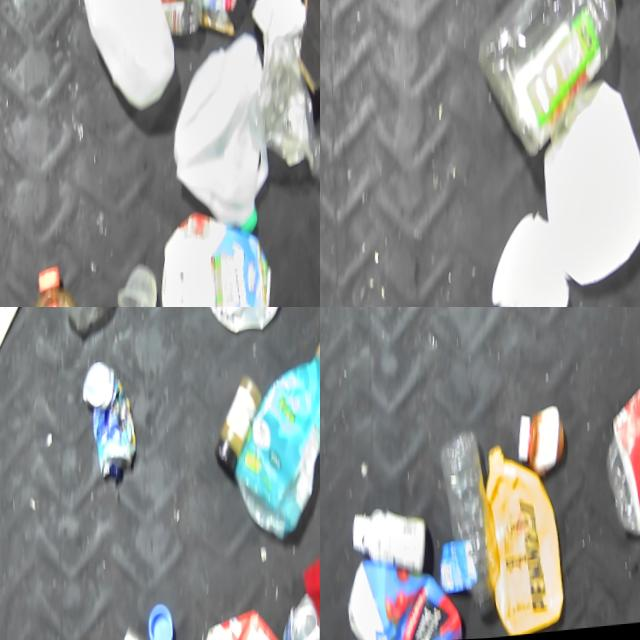can: (75, 356, 142, 490), (108, 617, 187, 640)
milk_jug: (172, 31, 283, 244), (71, 0, 184, 126)
non_white_jug: (227, 342, 320, 549), (482, 442, 572, 640), (346, 550, 471, 640), (32, 259, 105, 307)
plastic_bottle: (436, 428, 503, 623), (603, 369, 640, 542)
